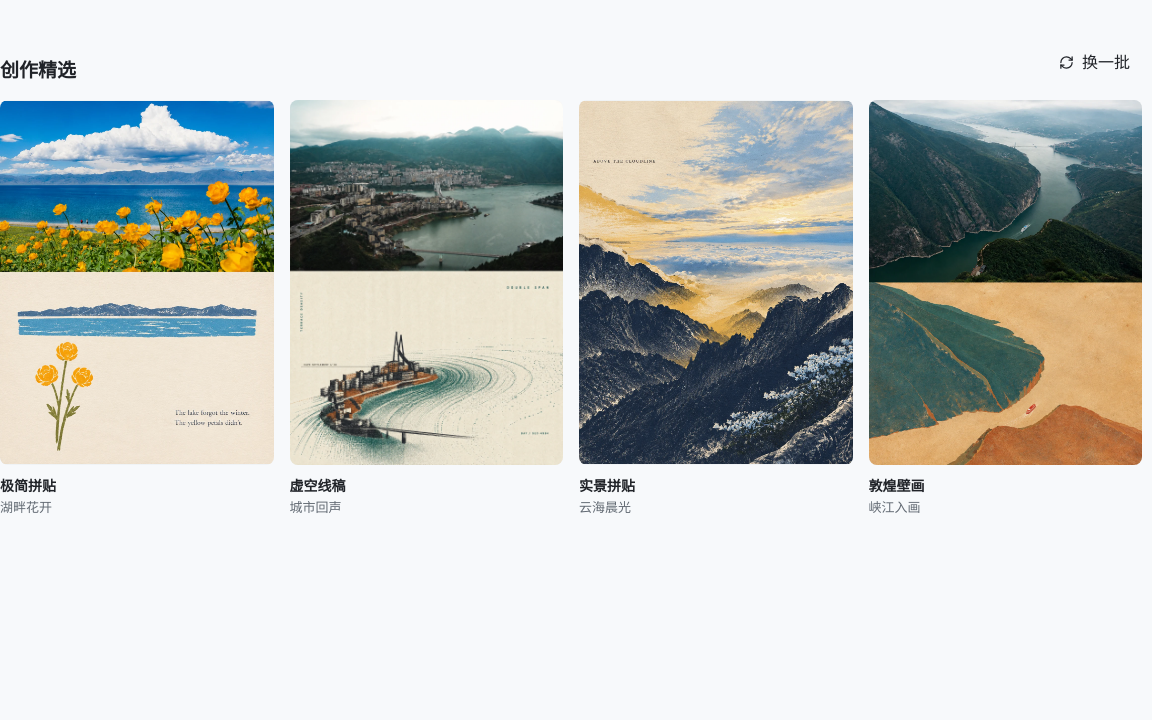
ExampleGallery real outputs › previews without starting generation and selects a Skill only on explicit action
The width and height of the screenshot is (1152, 720).
Click the button "极简拼贴 湖畔花开" at [137, 309], box [0,100,274,517]
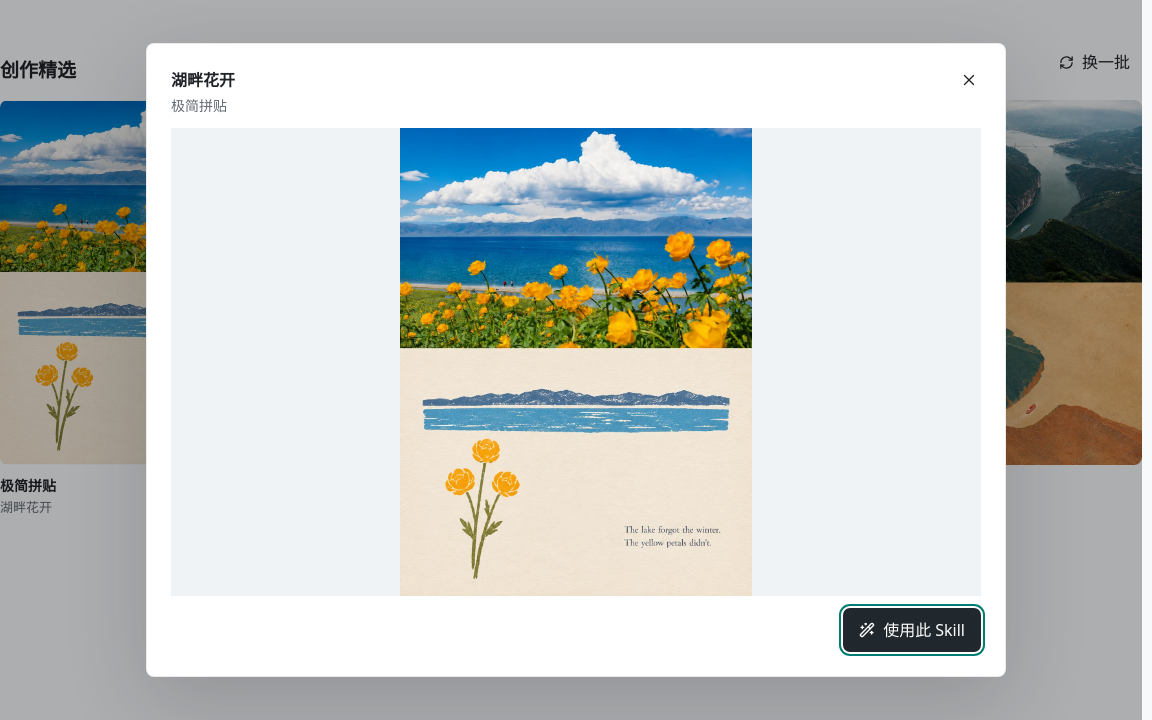
Click the button "使用此 Skill" at [912, 630], box [843,608,981,652]
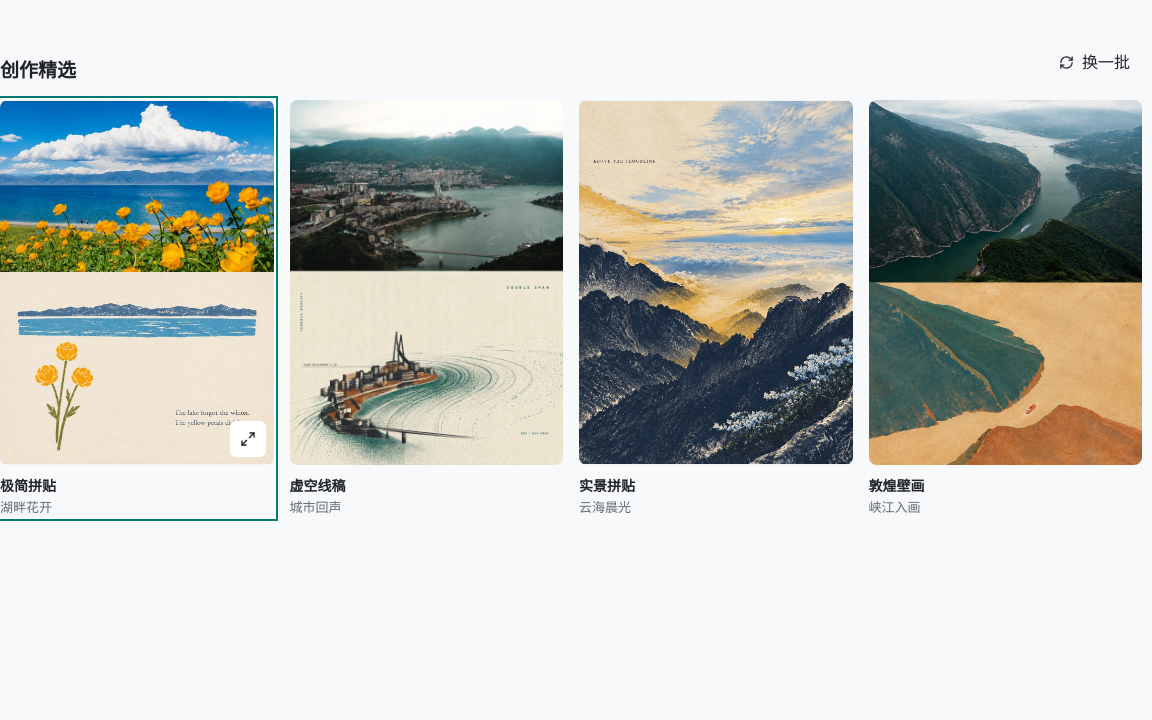
Expected: the dialog is gone
